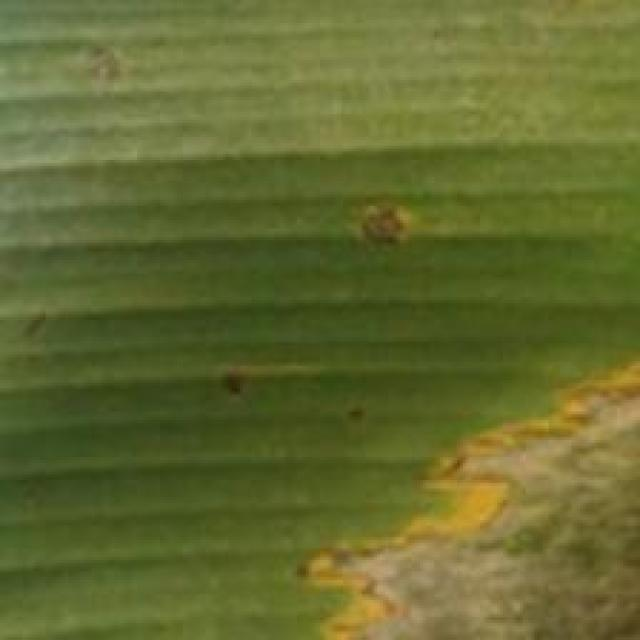Downey_mildrew: (210, 332, 640, 639), (320, 194, 469, 290)
